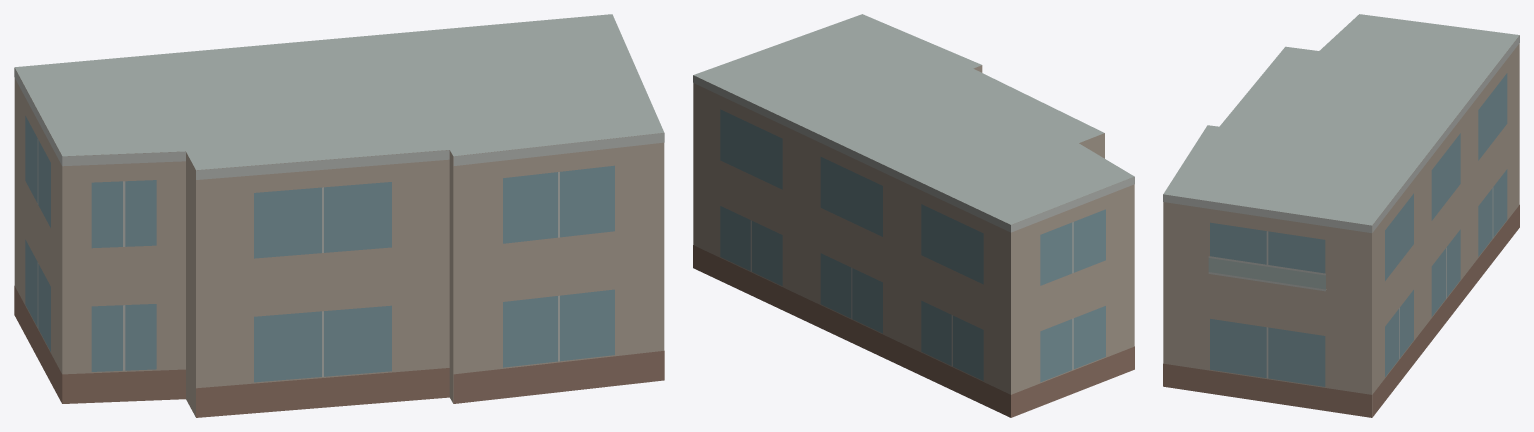
Rendered from survey-upis-32515398.glb.
3 views of the same model, side by side, from view 1: azimuth 30°, elevation 25°; view 2: azimuth 150°, elevation 25°; view 3: azimuth 270°, elevation 25° (orthographic). The views are drawn at different scales.
Parts seen in each view (by area): view 1: survey-upis-32515398.tmp; view 2: survey-upis-32515398.tmp; view 3: survey-upis-32515398.tmp.
Boxes of the visible parts, x1,y1,x2,y2 form: survey-upis-32515398.tmp: (14, 14, 664, 417); survey-upis-32515398.tmp: (693, 14, 1134, 417); survey-upis-32515398.tmp: (1163, 14, 1519, 417).
Size of the model in its own units: 14.4 by 6.1 by 10.26.
